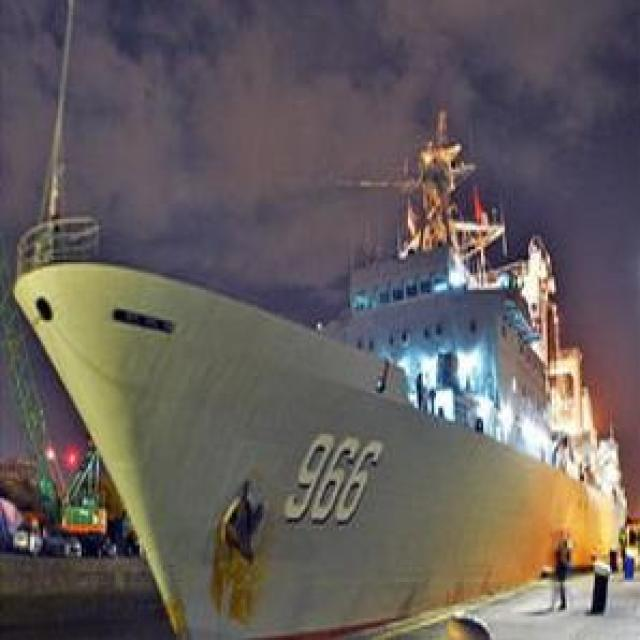navalvessels: (24, 117, 623, 632)
